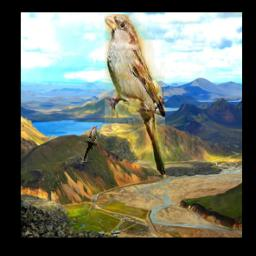Cuckoo: (81, 125, 97, 162)
Sparrow: (105, 15, 165, 176)
